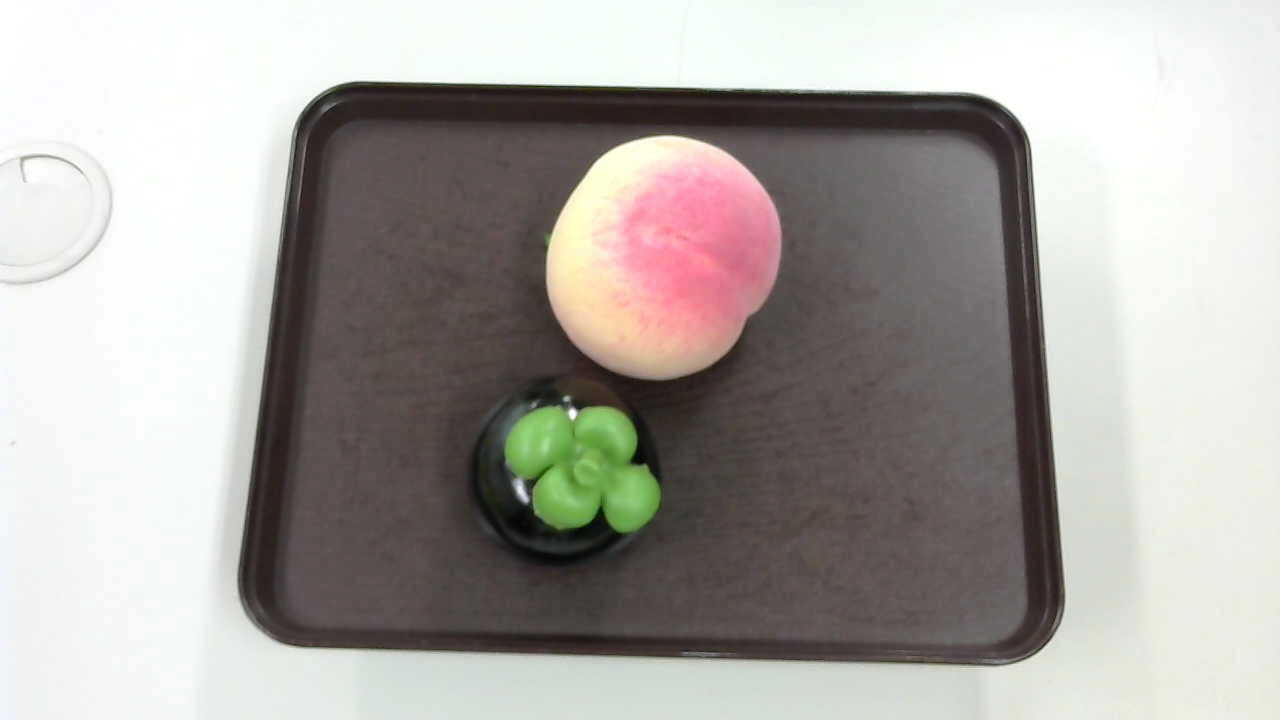mangosteen: (470, 376, 666, 565)
peach: (535, 135, 786, 381)
